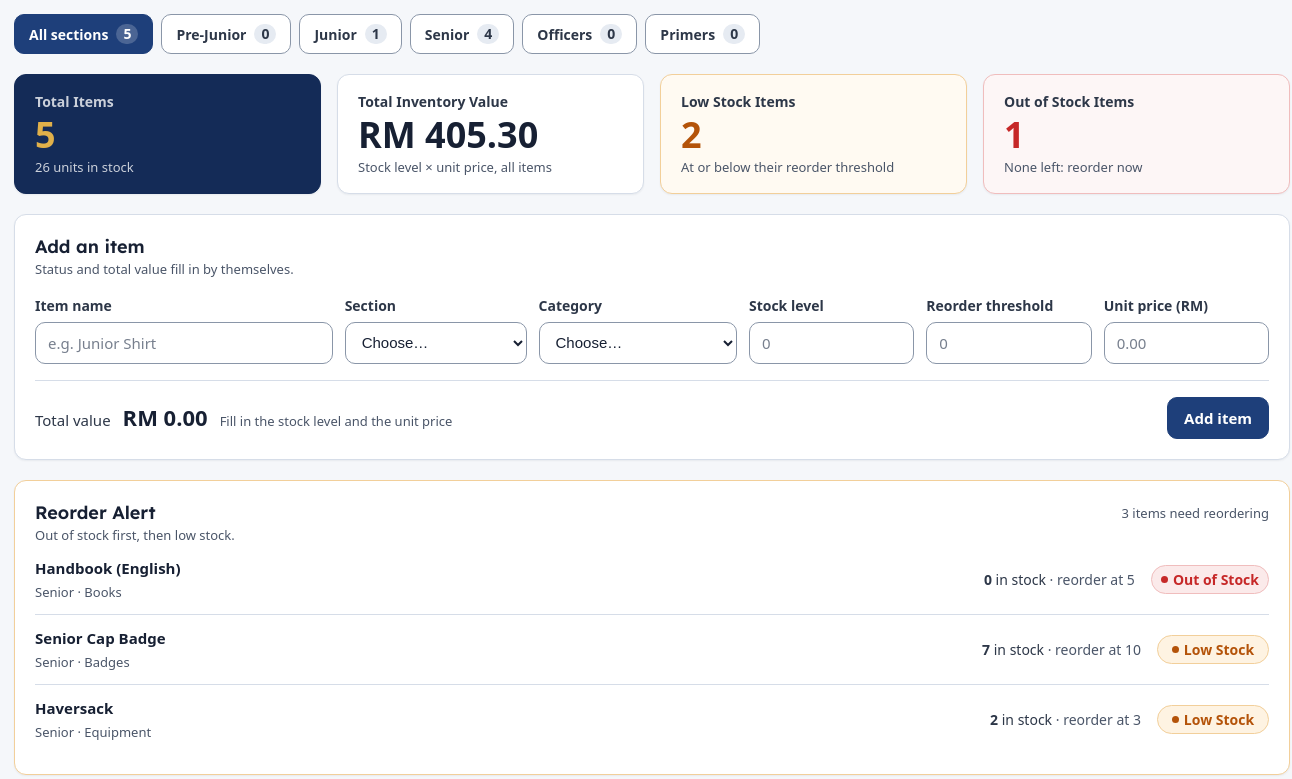
it: sections › a tab shows only that section: cards, Reorder Alert, table and dropdown counts
Click the button "Senior 4" at (462, 34), box 410,14 -> 514,54
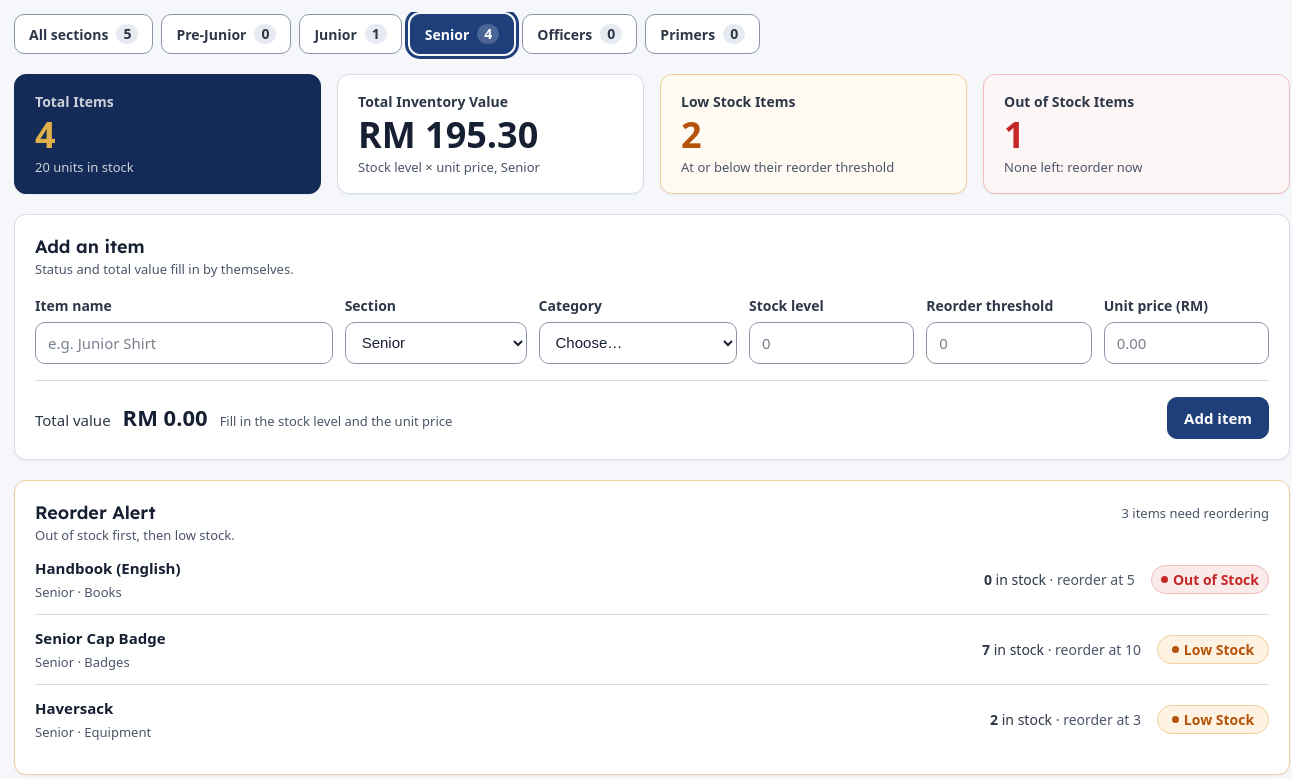
expect the button "Senior 4" is pressed: met, box 410,14 -> 514,54
Click the button "Junior 1" at (351, 34), box 300,14 -> 402,54
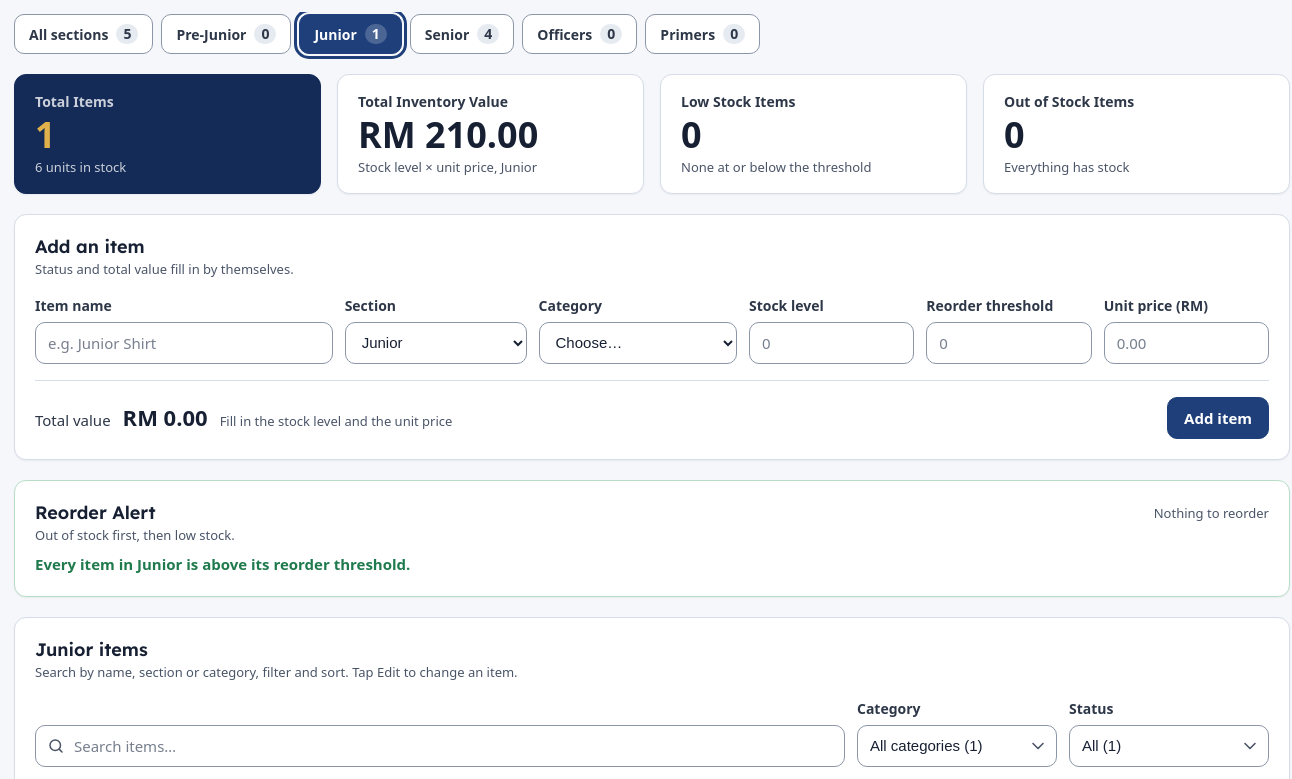
expect the element "Reorder Alert" shows "Every item in Junior is above its reorder threshold.": met, box 35,554 -> 410,574
Click the button "Officers 0" at (580, 34), box 522,14 -> 637,54
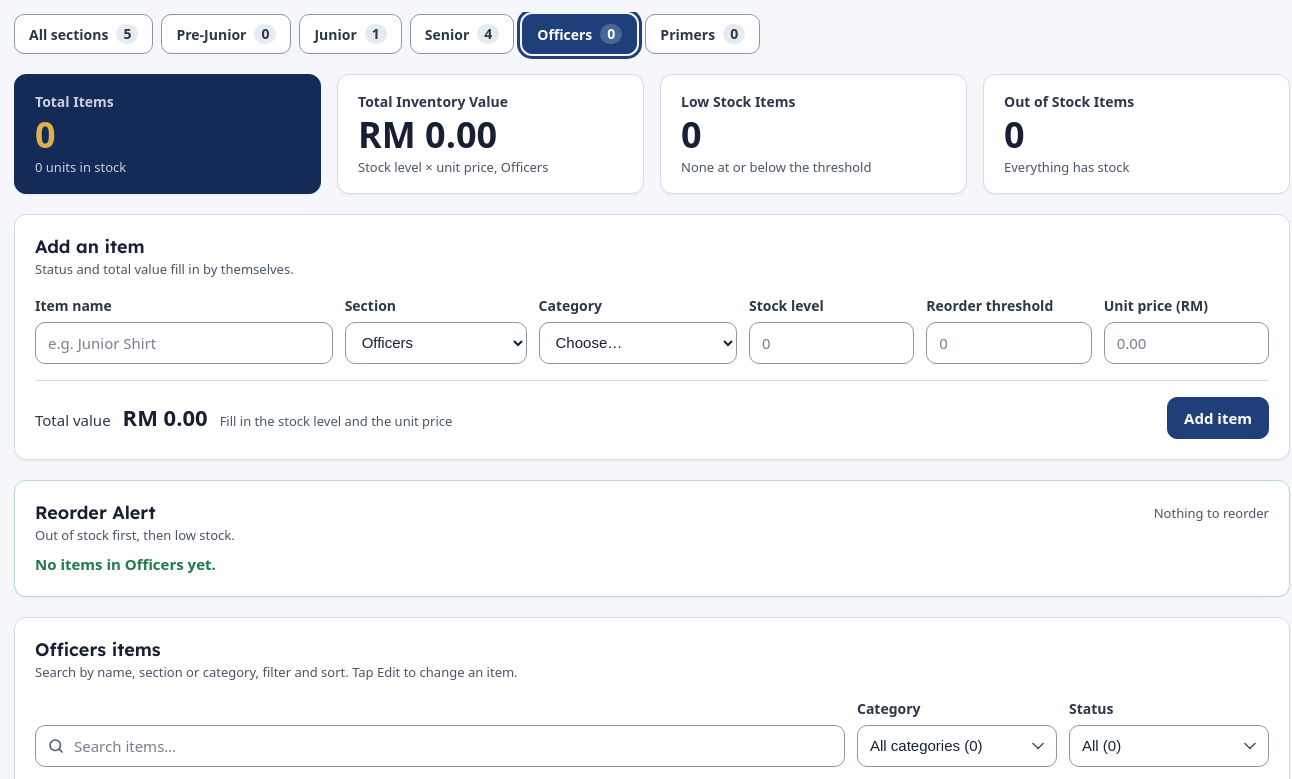
expect the element "Reorder Alert" shows "No items in Officers yet.": met, box 35,554 -> 216,574
Click the button "All sections 5" at (84, 34), box 14,14 -> 154,54
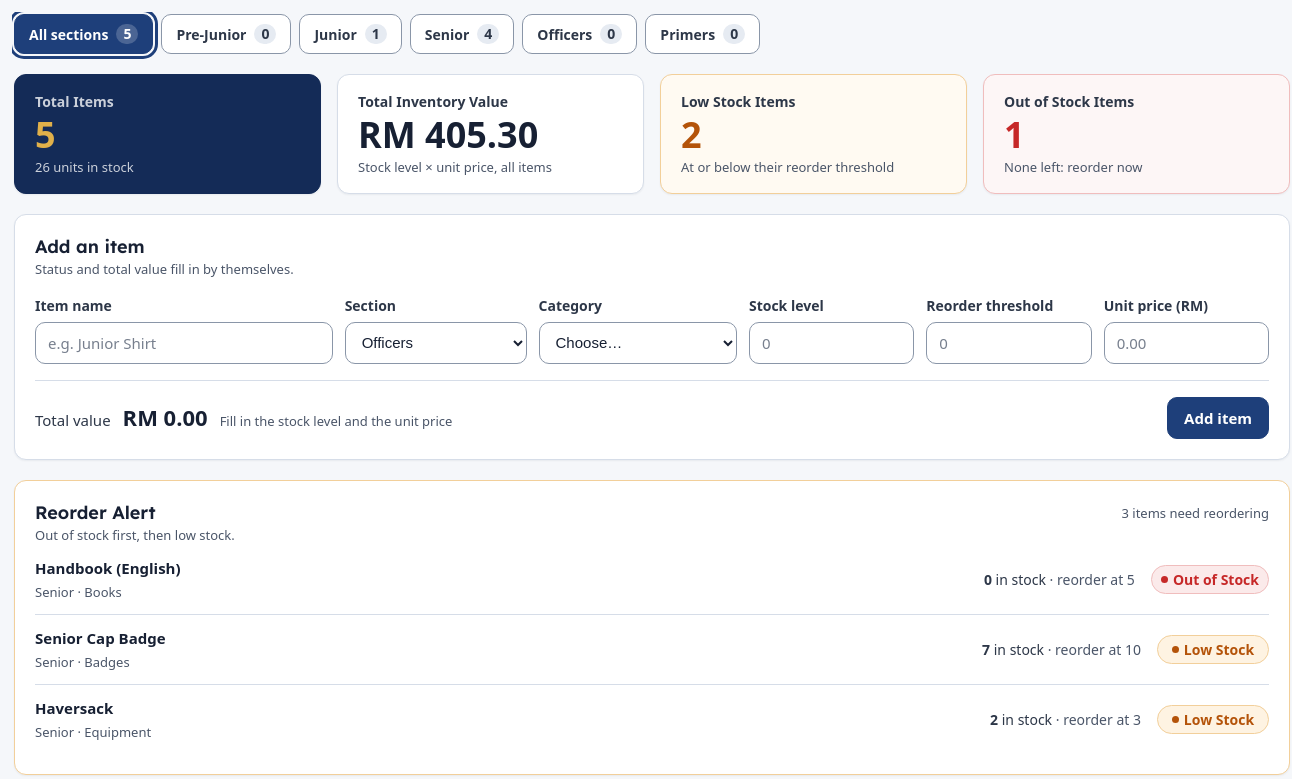
expect the text "RM 405.30" is shown: met, box 358,110 -> 538,159
